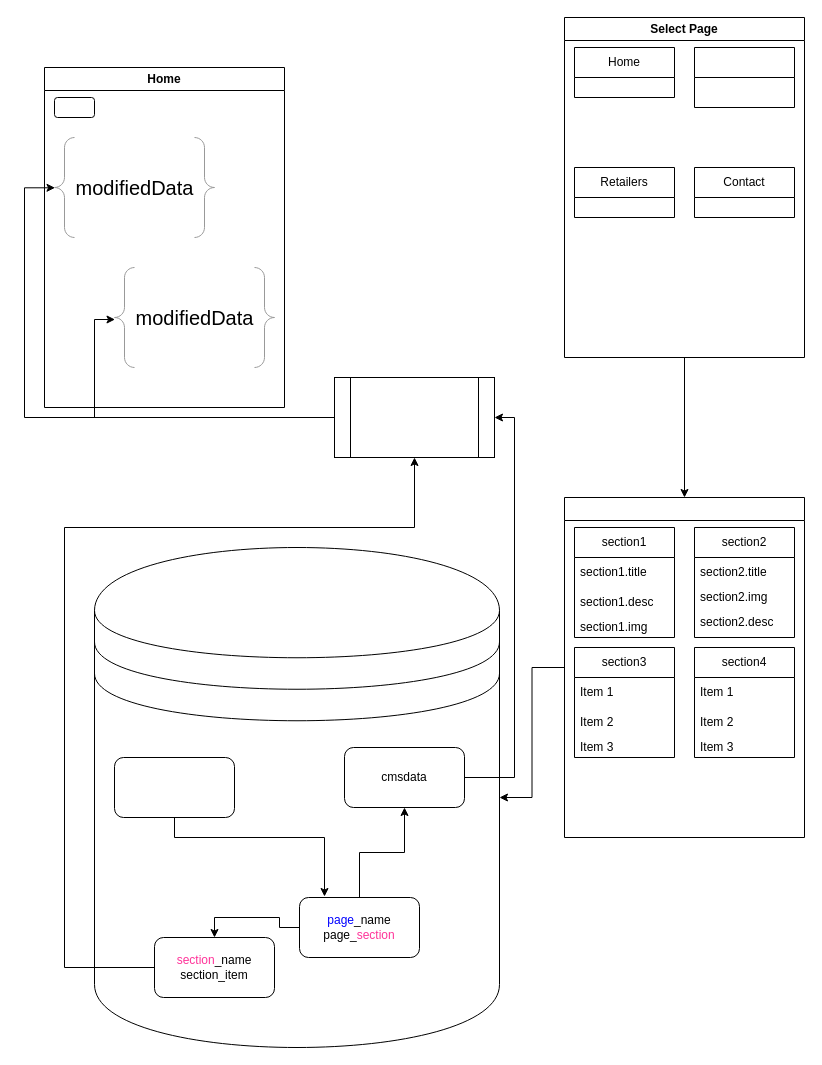
The diagram is 822 pixels wide and 1065 high, and some of its shapes have lost their labels. Each missing label, with the box of its shape:
.replace: (334, 376, 494, 458)
channelP_name channelP_ page: (114, 756, 234, 818)
Drop Auction: (694, 46, 794, 108)
Edit: (564, 496, 804, 838)
Logo: (54, 96, 94, 118)
